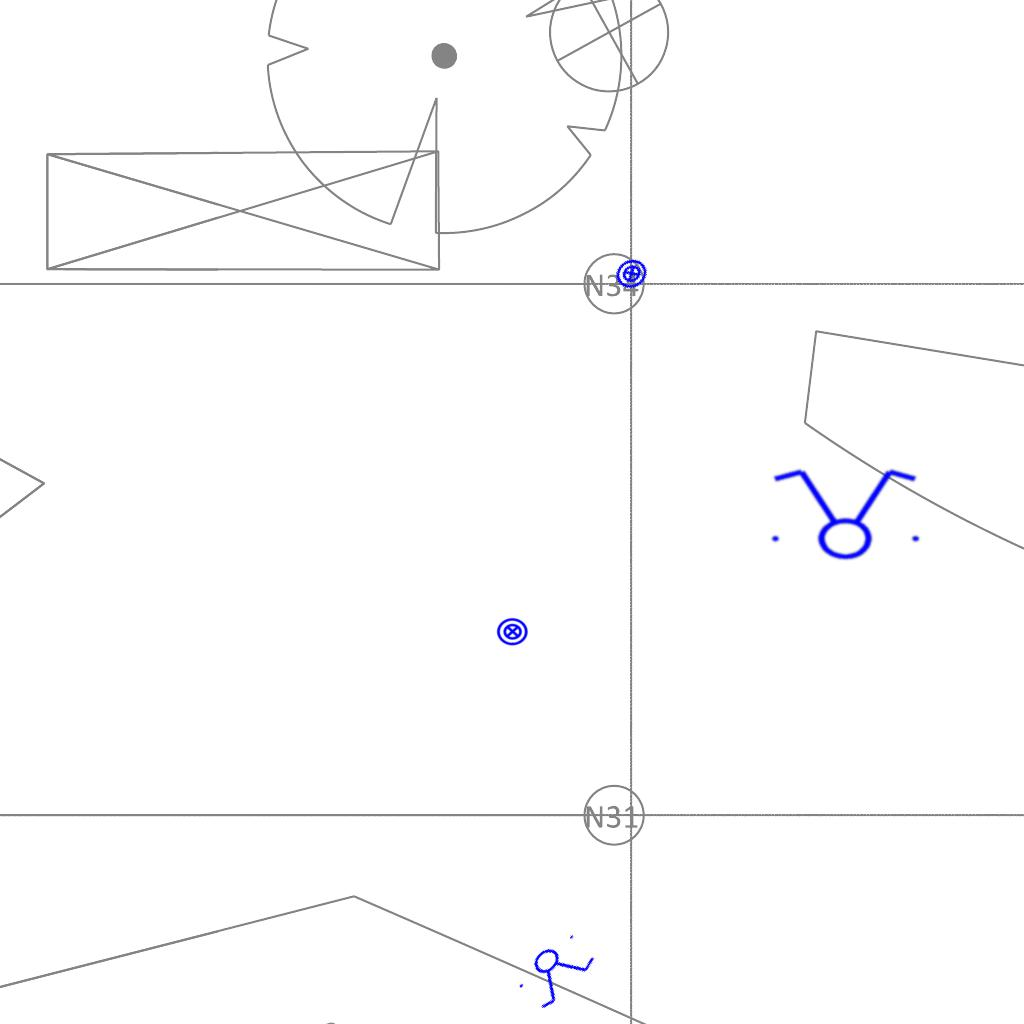Serienschalter: (760, 465, 928, 561), (509, 923, 603, 1017)
Taster_beleuchtet: (608, 250, 655, 297), (496, 615, 529, 648)
